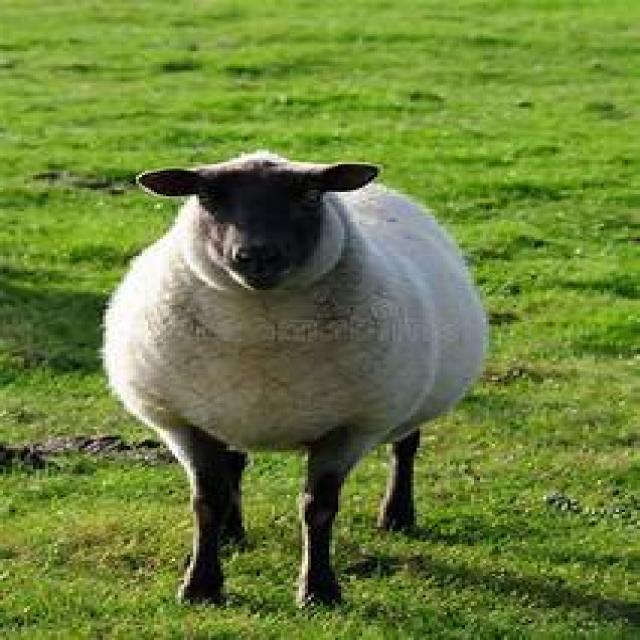goat: (103, 151, 489, 610)
